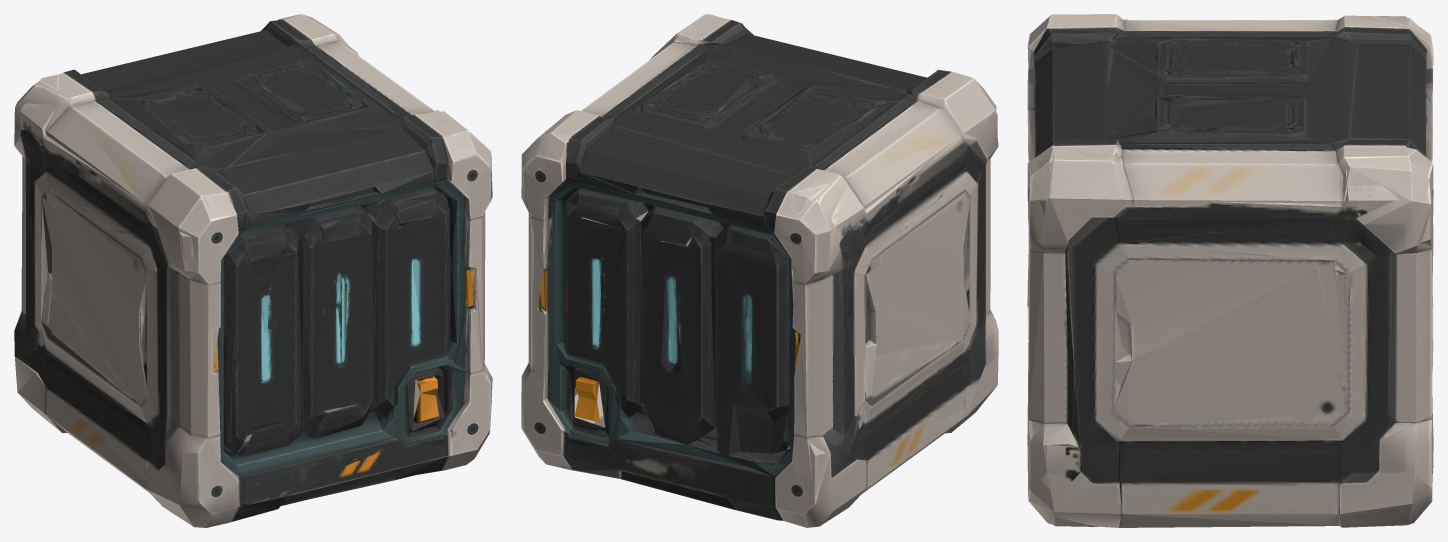
File: Battery.fbx
3 views of the same model, side by side, from view 1: azimuth 30°, elevation 25°; view 2: azimuth 150°, elevation 25°; view 3: azimuth 270°, elevation 25° (orthographic). The views are drawn at different scales.
Visible parts, largest first — view 1: Battery_Geometry; view 2: Battery_Geometry; view 3: Battery_Geometry.
Boxes of the visible parts, x1,y1,x2,y2 form: Battery_Geometry: (14,14,492,527); Battery_Geometry: (521,14,998,527); Battery_Geometry: (1027,14,1433,527).
Bounding box in the file's own units: 100 × 100 × 100.
1 material, 1 textured.
